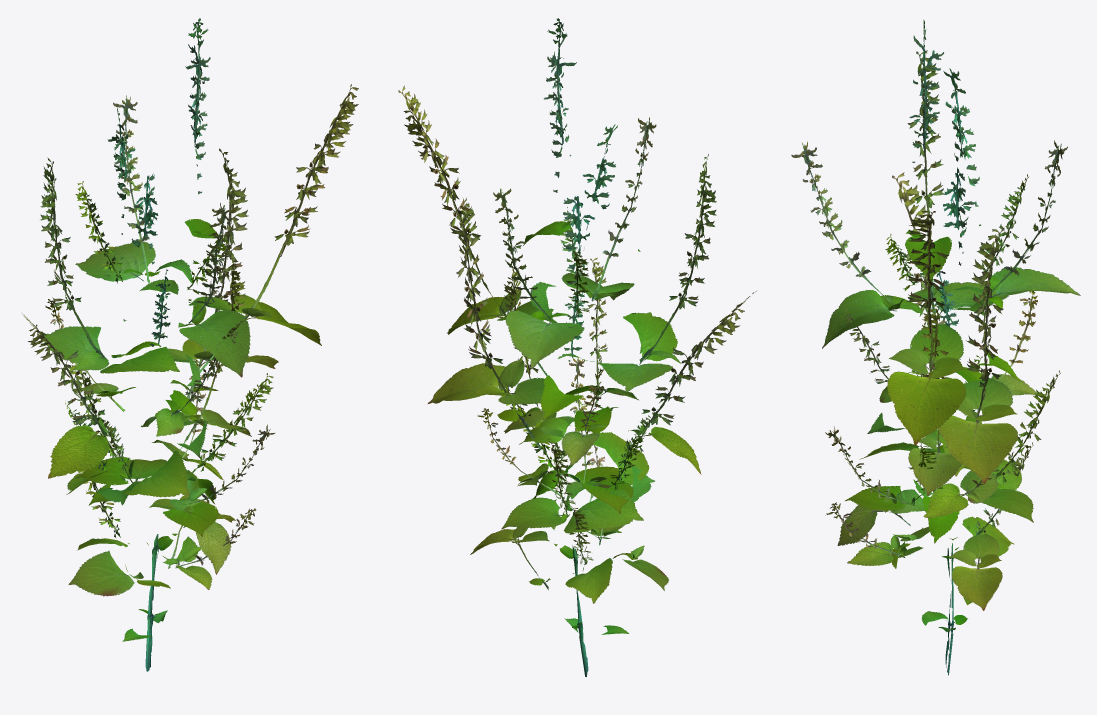
Rendered from shrub_03.gltf.
The picture shows the model from 3 angles, left to right: view 1: azimuth 30°, elevation 25°; view 2: azimuth 150°, elevation 25°; view 3: azimuth 270°, elevation 25°; orthographic projection. The views are drawn at different scales.
Parts seen in each view (by area): view 1: shrub_03_a, shrub_03_b, shrub_03_d, shrub_03_c; view 2: shrub_03_a, shrub_03_b, shrub_03_c, shrub_03_d; view 3: shrub_03_a, shrub_03_b, shrub_03_c, shrub_03_d.
Part boxes in pixels (box(x1,y1,x2,y2)): shrub_03_a: box(40, 18, 358, 505); shrub_03_b: box(22, 105, 278, 646); shrub_03_d: box(68, 269, 235, 671); shrub_03_c: box(45, 173, 256, 641); shrub_03_a: box(398, 18, 716, 502); shrub_03_b: box(428, 124, 756, 640); shrub_03_c: box(504, 196, 638, 634); shrub_03_d: box(470, 270, 668, 676); shrub_03_a: box(791, 19, 1080, 543); shrub_03_b: box(825, 68, 1060, 650); shrub_03_c: box(825, 167, 1037, 631); shrub_03_d: box(837, 270, 1002, 675).
Bounding box in the file's own units: 0.2197 × 0.4028 × 0.1512.
1 material, 1 textured.
